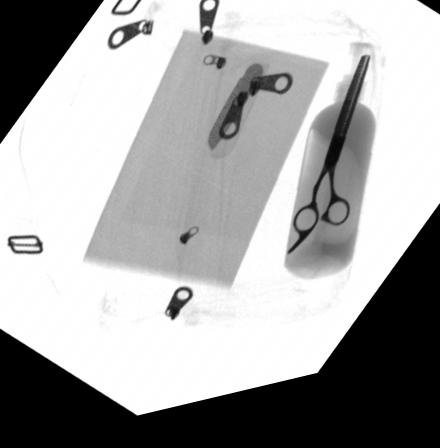Knife: (206, 73, 264, 162)
Scissors: (286, 72, 370, 269)
